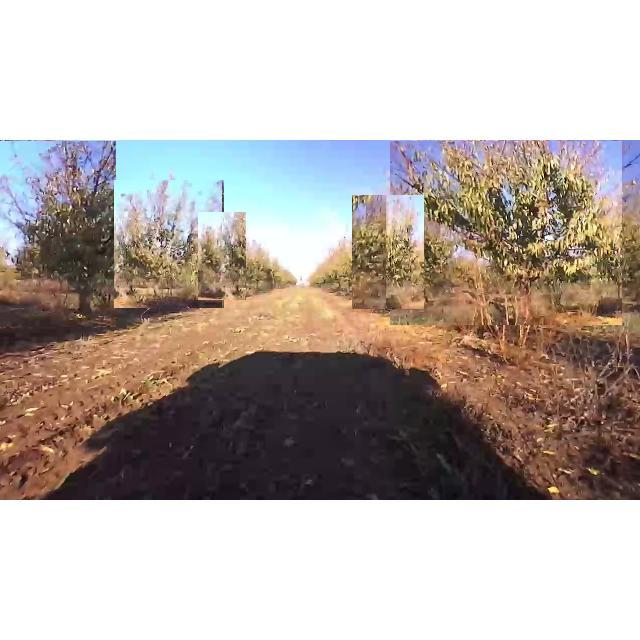direk: (390, 141, 622, 325), (0, 141, 116, 327), (114, 180, 224, 308), (352, 195, 424, 309), (198, 212, 246, 300)
